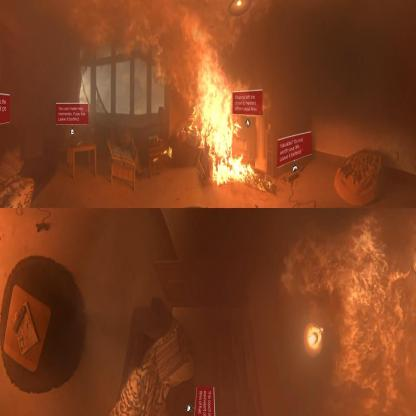fire: (328, 220, 415, 409), (188, 58, 260, 188)
